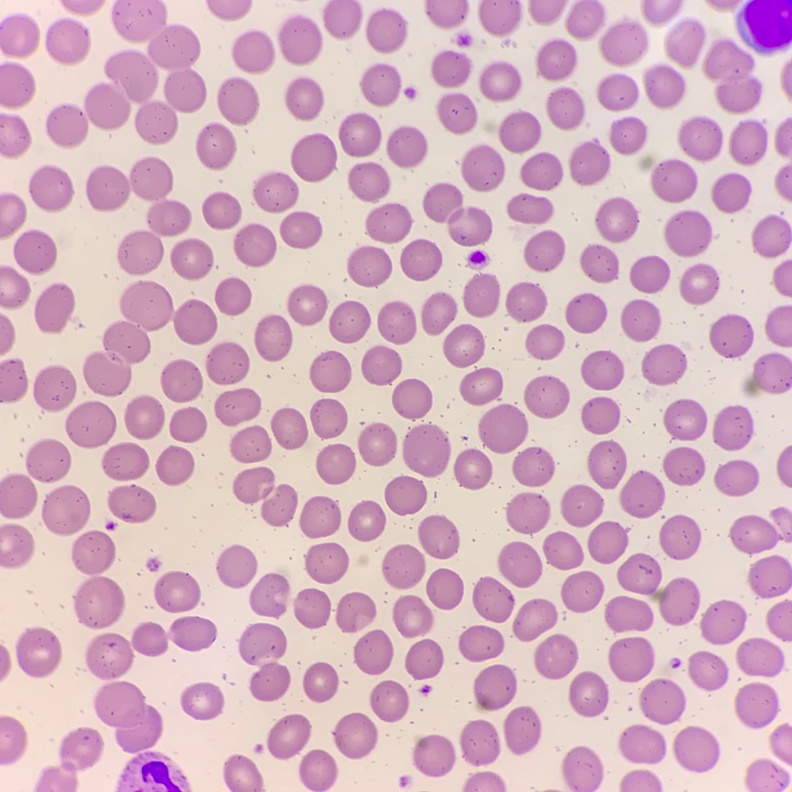RBC: (47, 0, 205, 146), (84, 282, 216, 395), (87, 158, 190, 274), (94, 681, 186, 791), (618, 554, 699, 624), (72, 531, 124, 628), (703, 39, 760, 112), (36, 728, 102, 791), (424, 183, 491, 245), (239, 623, 290, 700), (233, 467, 297, 525), (639, 156, 696, 202), (403, 425, 449, 476), (479, 404, 527, 452), (42, 486, 89, 534), (66, 401, 115, 447), (16, 628, 61, 676), (86, 633, 132, 679), (291, 134, 336, 181), (665, 211, 711, 256), (743, 353, 791, 396), (673, 726, 718, 771), (620, 471, 664, 517), (279, 17, 322, 64), (640, 679, 685, 723), (609, 637, 653, 681), (334, 713, 377, 758), (600, 22, 646, 64), (46, 19, 89, 63), (701, 601, 745, 644), (735, 683, 778, 727), (267, 714, 310, 758), (474, 665, 516, 710), (35, 284, 74, 332), (678, 117, 721, 160), (462, 146, 504, 190), (30, 166, 72, 210), (499, 542, 541, 586), (534, 634, 576, 678), (218, 78, 258, 124), (596, 198, 637, 242), (34, 366, 75, 410), (524, 376, 568, 417), (659, 515, 700, 559), (155, 571, 200, 611), (14, 231, 56, 273), (710, 315, 752, 357), (339, 113, 380, 156), (27, 440, 70, 481), (383, 545, 424, 588), (513, 599, 556, 640), (642, 344, 686, 384), (473, 577, 513, 621), (562, 747, 602, 791), (569, 671, 608, 716), (737, 638, 783, 676), (588, 441, 625, 488), (730, 516, 777, 553), (233, 31, 274, 73), (234, 224, 275, 266), (207, 342, 248, 384), (161, 360, 202, 402), (749, 556, 791, 597), (305, 543, 348, 583), (366, 203, 410, 242), (713, 406, 752, 450), (460, 720, 499, 764), (197, 124, 235, 169), (102, 443, 148, 480), (619, 725, 665, 762), (108, 486, 155, 522), (504, 706, 540, 753), (561, 485, 602, 526), (413, 735, 454, 776), (366, 10, 406, 52), (569, 142, 609, 184), (171, 239, 213, 279), (443, 324, 483, 366), (664, 399, 706, 439), (507, 493, 549, 533), (254, 173, 297, 212), (348, 247, 391, 286), (125, 396, 164, 439), (354, 630, 392, 674), (605, 596, 652, 631), (644, 66, 684, 107), (499, 112, 540, 152), (401, 239, 441, 280), (329, 301, 369, 342), (310, 351, 350, 392), (561, 571, 602, 611), (361, 64, 400, 106), (419, 516, 458, 558), (250, 573, 288, 616), (667, 22, 704, 66), (255, 315, 291, 360), (215, 389, 260, 425), (300, 497, 340, 537), (752, 216, 791, 257), (588, 522, 627, 563), (217, 546, 256, 587), (393, 595, 432, 636), (0, 14, 38, 56), (581, 351, 623, 389), (729, 121, 766, 164), (0, 474, 36, 518), (459, 625, 503, 661), (170, 616, 216, 650), (537, 40, 576, 80), (387, 127, 426, 167), (525, 231, 564, 271), (513, 447, 553, 486), (621, 300, 659, 341), (385, 476, 426, 514), (299, 750, 337, 791), (286, 78, 323, 120), (520, 153, 562, 190), (359, 423, 396, 465), (0, 62, 34, 107), (288, 285, 327, 324), (392, 379, 431, 418), (349, 163, 389, 201), (680, 264, 718, 304), (566, 294, 606, 332), (370, 681, 408, 721), (378, 302, 415, 343), (663, 447, 704, 484), (460, 368, 502, 404), (181, 683, 223, 719), (715, 460, 758, 495), (438, 94, 476, 133), (506, 283, 545, 321), (362, 346, 401, 384), (317, 444, 355, 483), (337, 593, 375, 632), (405, 640, 443, 679), (480, 63, 520, 100), (547, 88, 583, 129), (464, 274, 499, 316), (323, 0, 361, 38), (712, 174, 750, 212), (689, 651, 727, 689), (566, 0, 603, 39), (454, 449, 491, 488), (543, 532, 582, 569), (281, 212, 321, 248), (271, 408, 307, 448), (479, 0, 520, 35), (0, 524, 33, 567), (156, 446, 193, 484), (630, 256, 669, 292), (231, 426, 270, 462), (348, 501, 384, 540), (426, 569, 462, 608), (597, 75, 637, 110), (422, 293, 456, 334), (746, 759, 789, 791), (609, 117, 646, 154), (581, 245, 618, 282), (432, 51, 470, 87), (581, 397, 619, 433), (310, 399, 346, 437), (294, 589, 330, 627), (224, 755, 262, 791), (303, 662, 338, 701), (203, 193, 240, 229), (0, 114, 30, 157), (508, 194, 552, 223), (215, 278, 250, 314), (526, 325, 563, 359), (0, 716, 26, 764), (170, 408, 206, 442), (0, 266, 29, 307), (132, 622, 167, 655), (426, 0, 468, 27), (0, 359, 27, 401), (0, 194, 25, 237), (765, 305, 791, 346), (767, 601, 791, 640), (642, 0, 681, 23), (207, 0, 251, 20), (620, 770, 661, 791), (529, 0, 564, 23), (770, 725, 791, 763), (463, 772, 505, 791), (774, 260, 791, 295), (773, 508, 791, 541), (775, 118, 791, 154), (63, 0, 102, 14), (777, 447, 791, 486), (775, 165, 791, 199), (0, 315, 14, 353), (0, 647, 10, 678), (782, 62, 791, 95), (710, 0, 737, 9), (469, 252, 484, 268), (457, 33, 471, 46), (148, 558, 158, 569)
